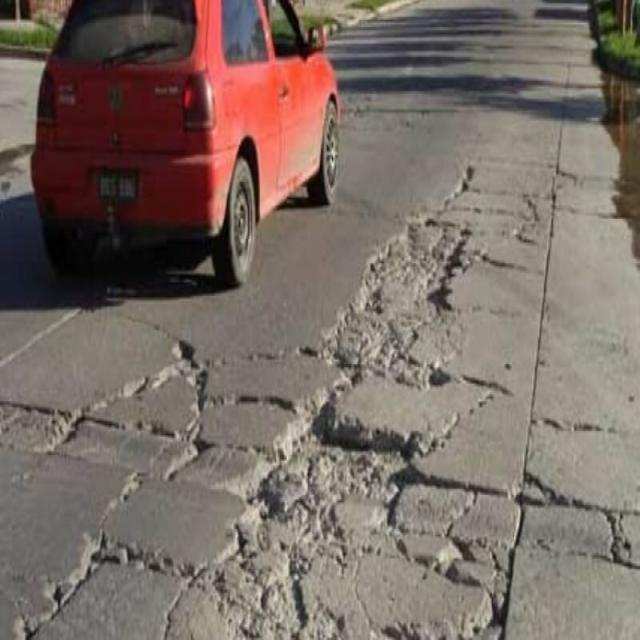Pothole: (221, 156, 535, 640)
